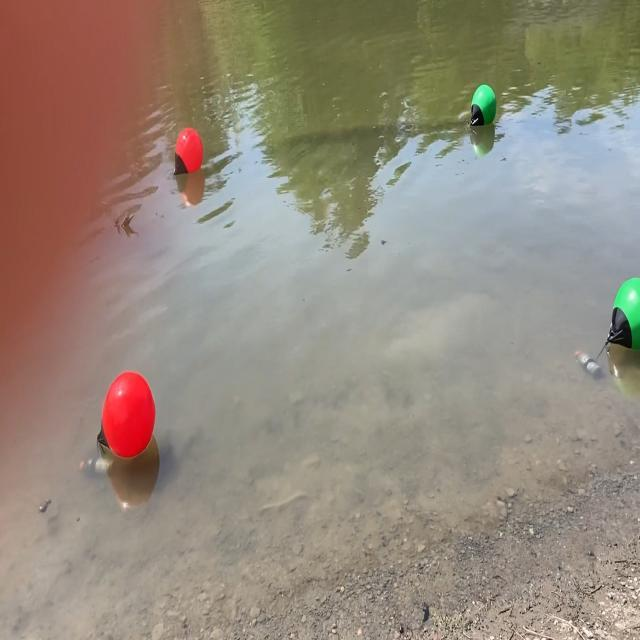buoy: (92, 366, 158, 464), (600, 272, 640, 358), (170, 124, 204, 182), (468, 82, 498, 128)
